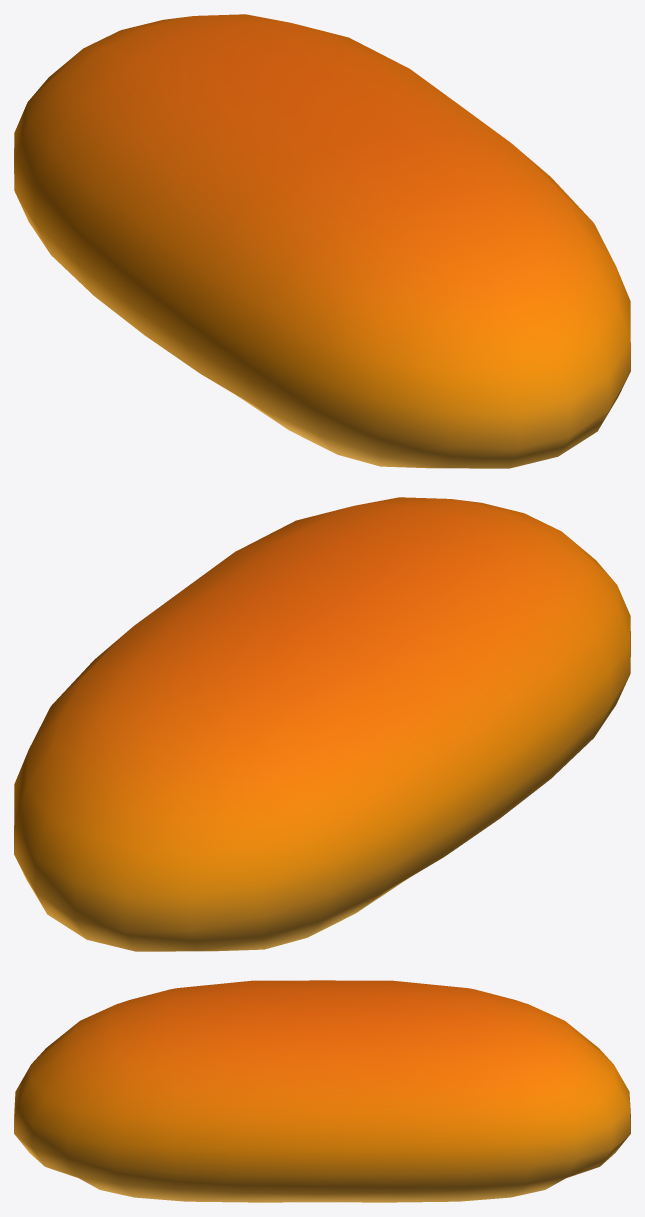
File: loaf_003.fbx
3 renders of one model, top to bottom at view 1: azimuth 30°, elevation 25°; view 2: azimuth 150°, elevation 25°; view 3: azimuth 270°, elevation 25°, orthographic. The views are drawn at different scales.
Parts seen in each view (by area): view 1: loaf_003; view 2: loaf_003; view 3: loaf_003.
Boxes of the visible parts, bbox=[...] form: loaf_003: bbox=[14, 14, 630, 468]; loaf_003: bbox=[14, 497, 630, 951]; loaf_003: bbox=[14, 980, 630, 1202].
Size of the model in its own units: 15.97 by 31.79 by 8.83.
